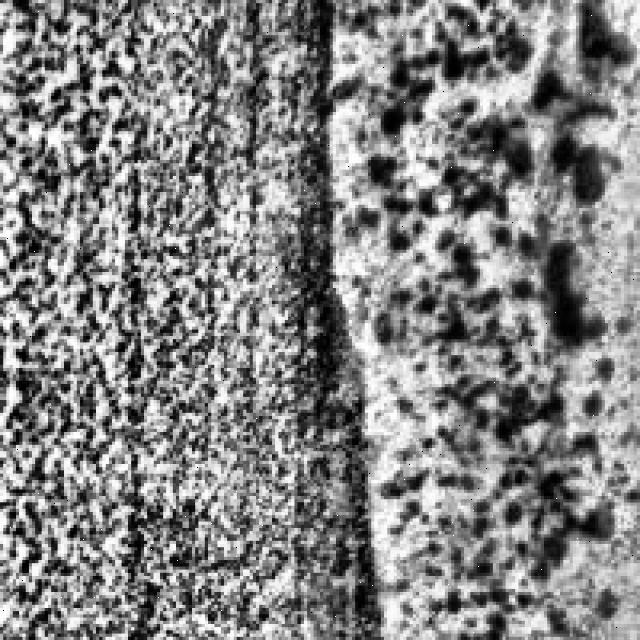Rolled_in_Scale: (6, 0, 333, 637), (352, 0, 618, 570)
